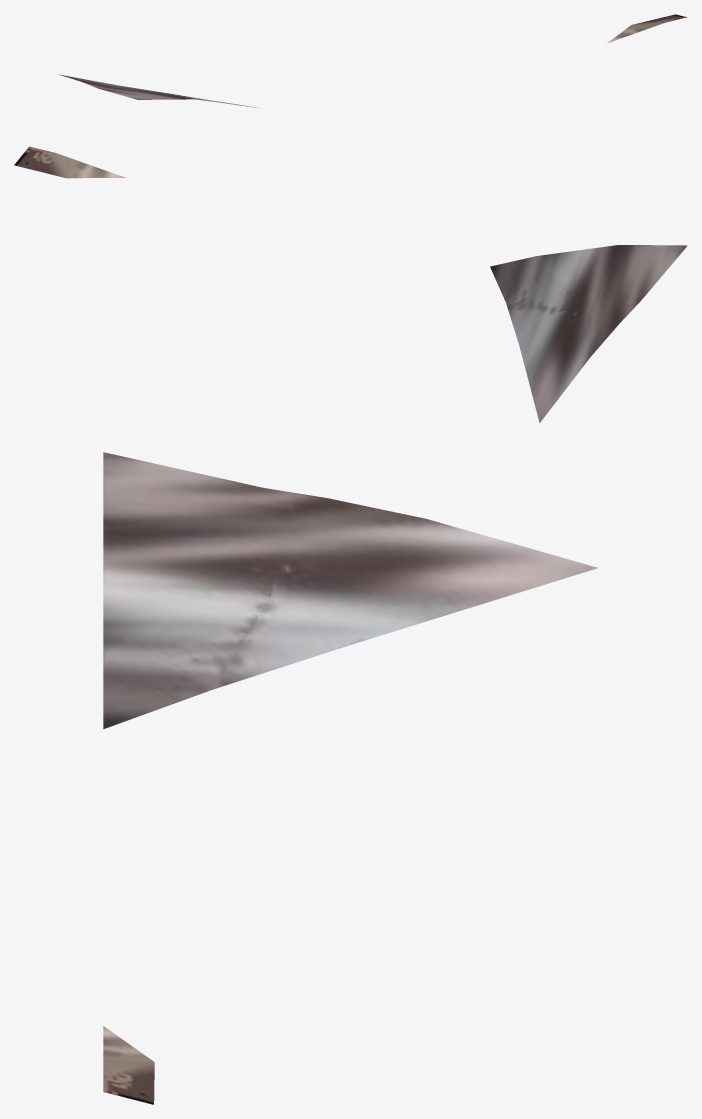
3 renders of one model, top to bottom at view 1: azimuth 30°, elevation 25°; view 2: azimuth 150°, elevation 25°; view 3: azimuth 270°, elevation 25°, orthographic. The views are drawn at different scales.
Size of the model in its own units: 1.67 by 0.1686 by 0.6532.
Materials: 1 (1 with a texture image).
